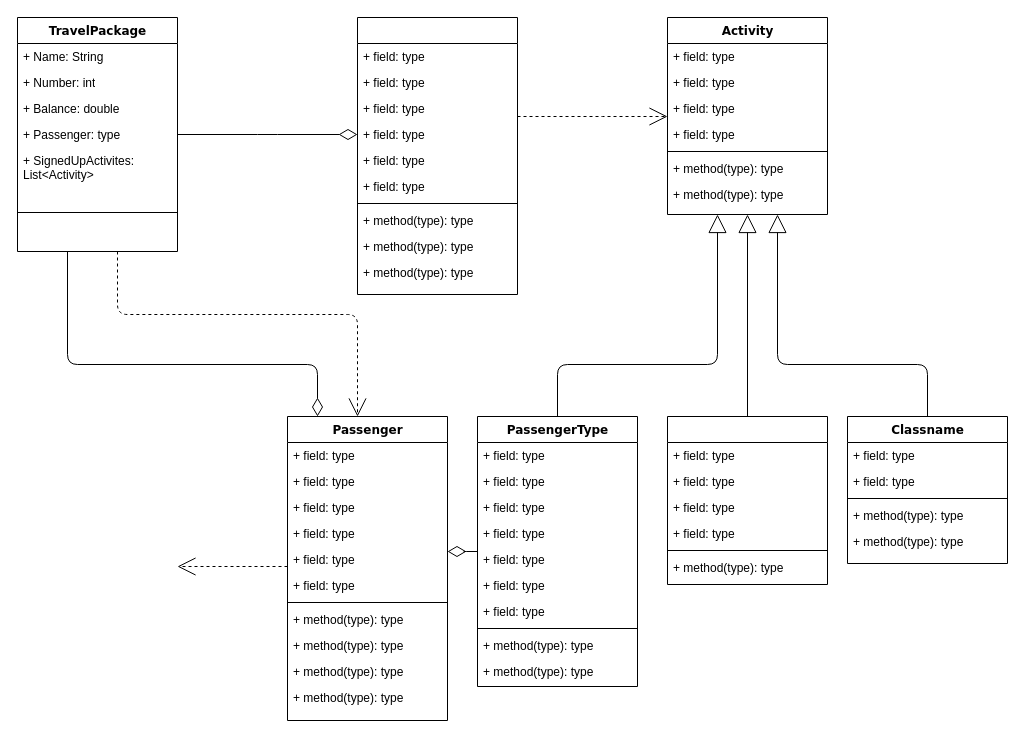
Image size: 1025x738. Some labels were removed from this diagram. The shapes that lost their labels are listed below. From the top down, each one's box as (x1, y1, x2, y2) in pixels, then its label:
(356, 16, 518, 294): Destination
(666, 416, 828, 584): Payment
